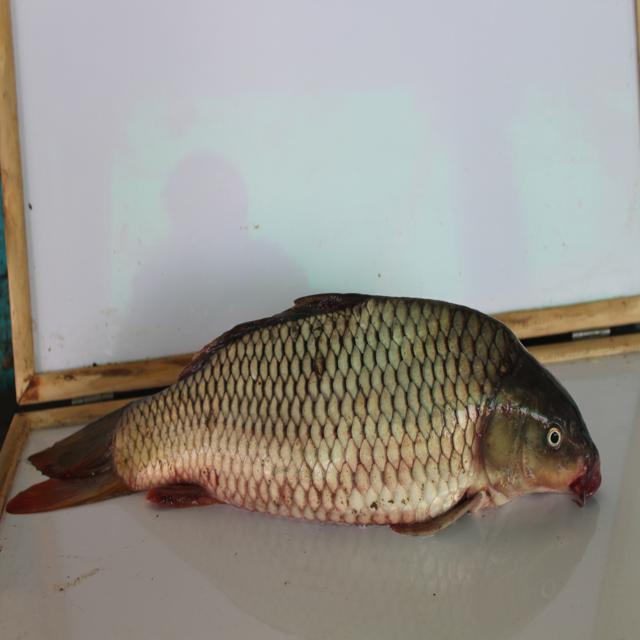CommonCarp: (9, 290, 613, 522)
